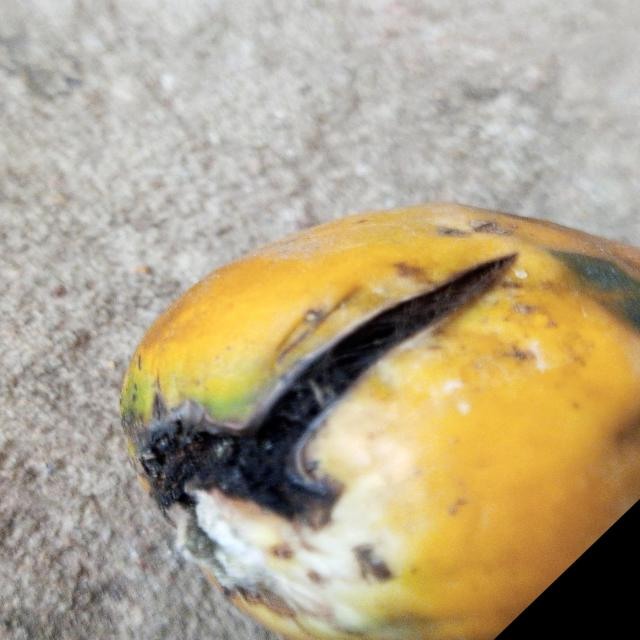damaged: (119, 203, 640, 640)
